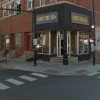crosswalk: (0, 72, 48, 90)
